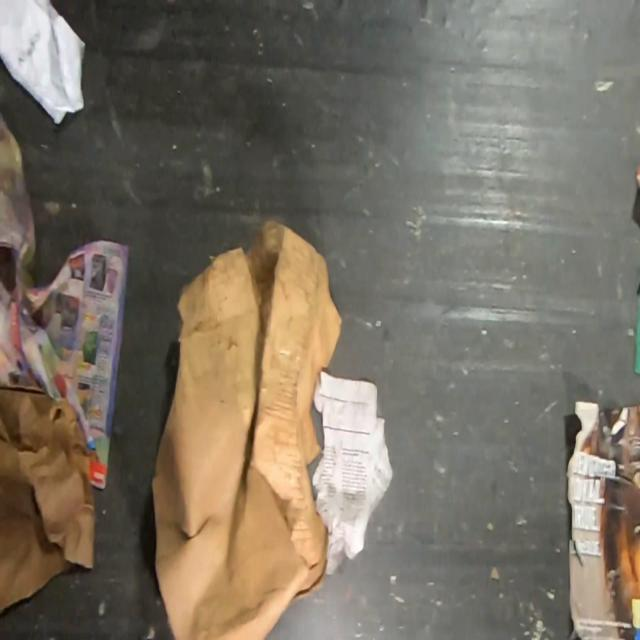cardboard: (149, 217, 342, 640)
